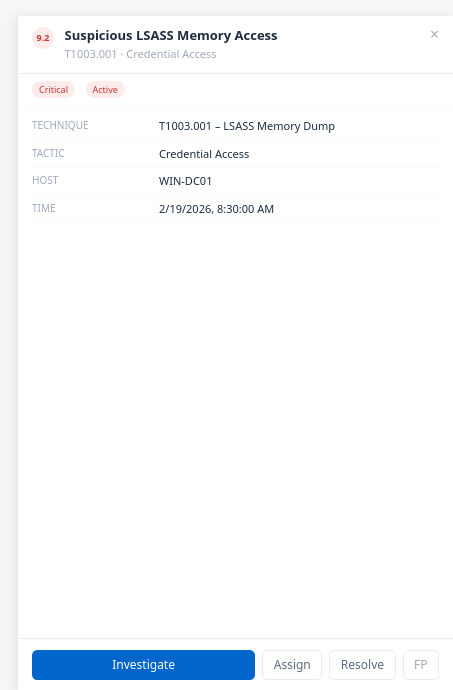
Test: DetectionPanel › assign flow › shows assign input when Assign button is clicked
Click the button "Assign".
click(292, 664)  # box [262,650,322,680]
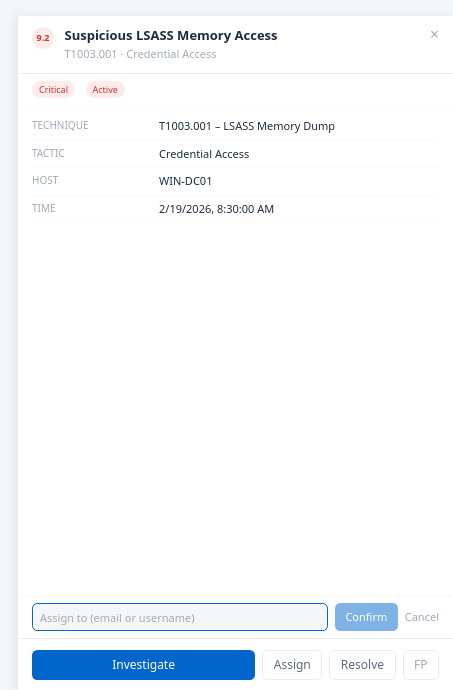
Expected: the field with placeholder "Assign to (email or username)" is shown, [32,603,328,631]
